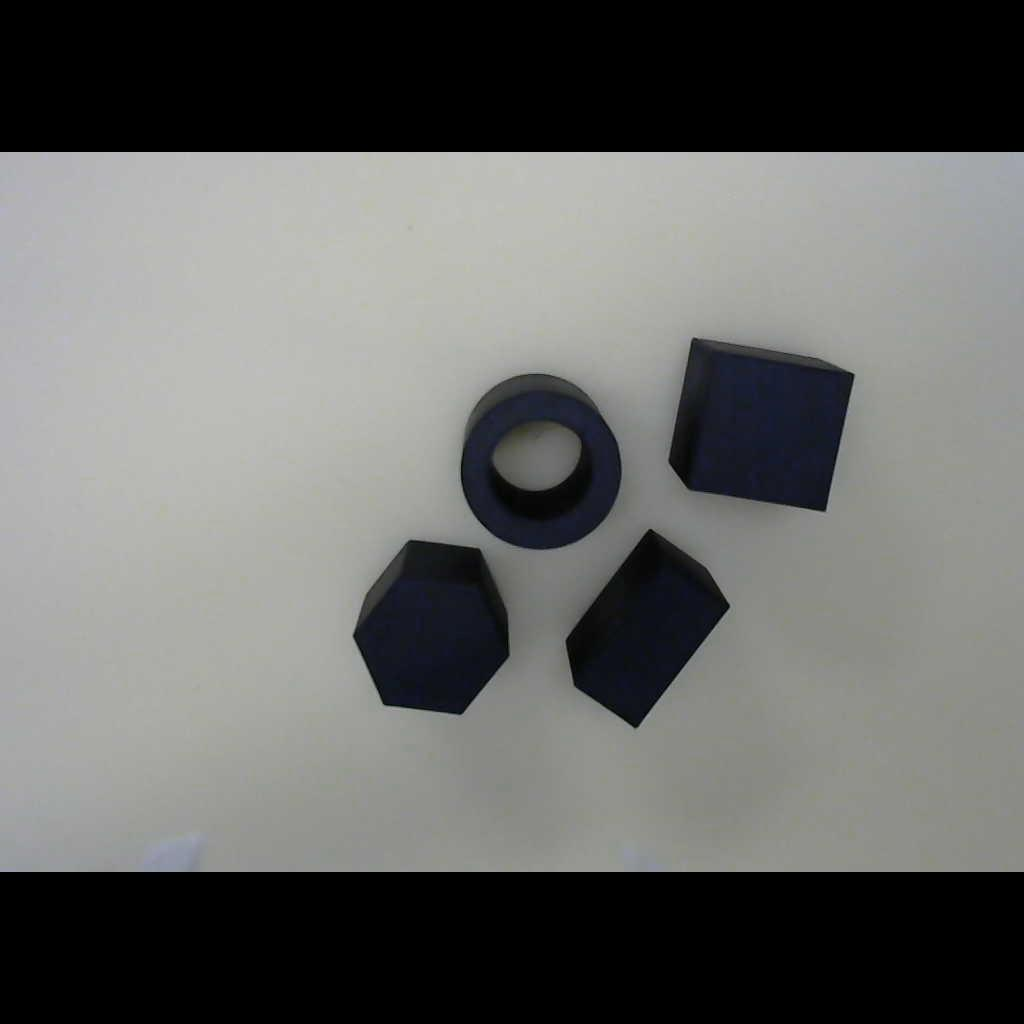hexagon: (326, 520, 537, 733)
rectangle: (534, 510, 756, 743)
ring: (433, 325, 656, 569)
square: (641, 317, 879, 534)
